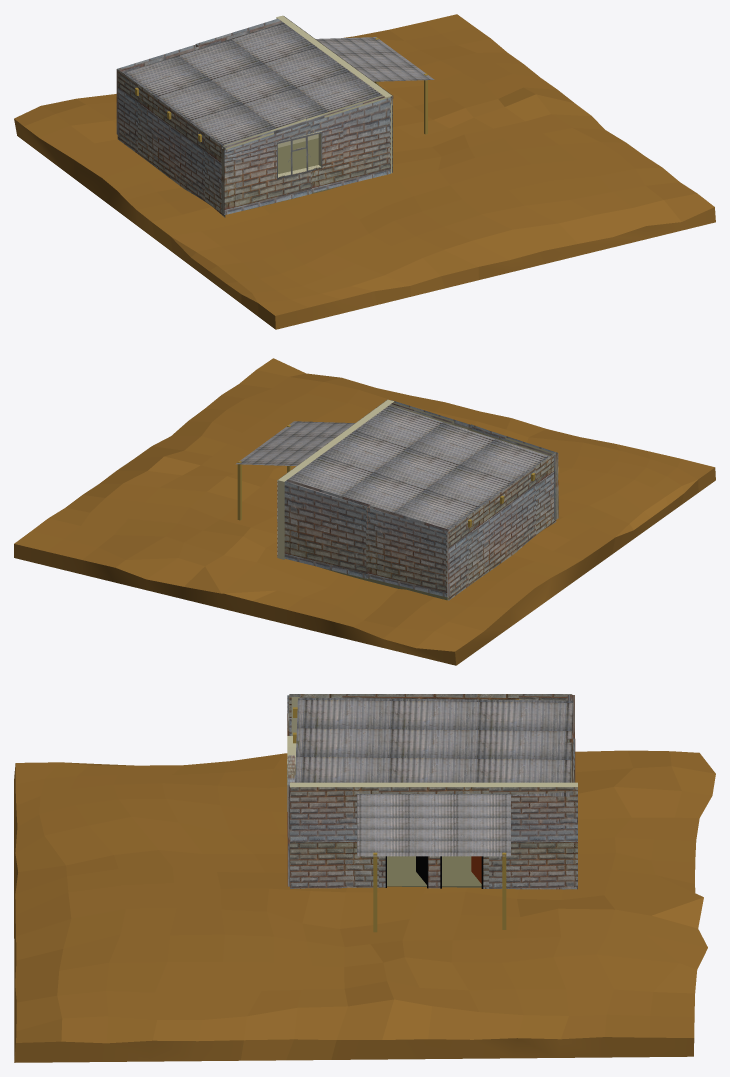
Rendered from myHome.glb.
The picture shows the model from 3 angles, top to bottom: view 1: azimuth 30°, elevation 25°; view 2: azimuth 150°, elevation 25°; view 3: azimuth 270°, elevation 25°; orthographic projection. The views are drawn at different scales.
Parts seen in each view (by area): view 1: Cube.004, Cube.001, Plane.002, Plane.004, Cube.002, Cube, Plane.001, Cube.017, Screenshot_2025-05-29_161621-removebg-preview; view 2: Cube.004, Plane.002, Cube.002, Cube.001, Plane.004, Plane.001; view 3: Cube.004, Plane.002, Plane.003, Plane.004, Cube.001, Cube, Plane.001.
Boxes of the visible parts, box(x1,y1,x2,y2) form: Cube.004: box(14, 14, 715, 329); Cube.001: box(117, 69, 393, 217); Plane.002: box(123, 22, 383, 146); Plane.004: box(316, 37, 434, 81); Cube.002: box(116, 18, 282, 135); Cube: box(244, 138, 341, 210); Plane.001: box(276, 15, 392, 173); Cube.017: box(322, 126, 343, 167); Screenshot_2025-05-29_161621-removebg-preview: box(277, 131, 322, 179); Cube.004: box(14, 358, 715, 665); Plane.002: box(285, 404, 549, 529); Cube.002: box(284, 479, 449, 597); Cube.001: box(389, 400, 558, 600); Plane.004: box(235, 421, 354, 466); Plane.001: box(278, 399, 394, 559); Cube.004: box(14, 750, 715, 1062); Plane.002: box(295, 697, 572, 796); Plane.003: box(290, 787, 577, 889); Plane.004: box(357, 794, 510, 856); Cube.001: box(287, 694, 572, 886); Cube: box(387, 856, 481, 887); Plane.001: box(290, 782, 577, 787).
Size of the model in its own units: 139 by 42.72 by 145.
9 materials, 3 textured.
